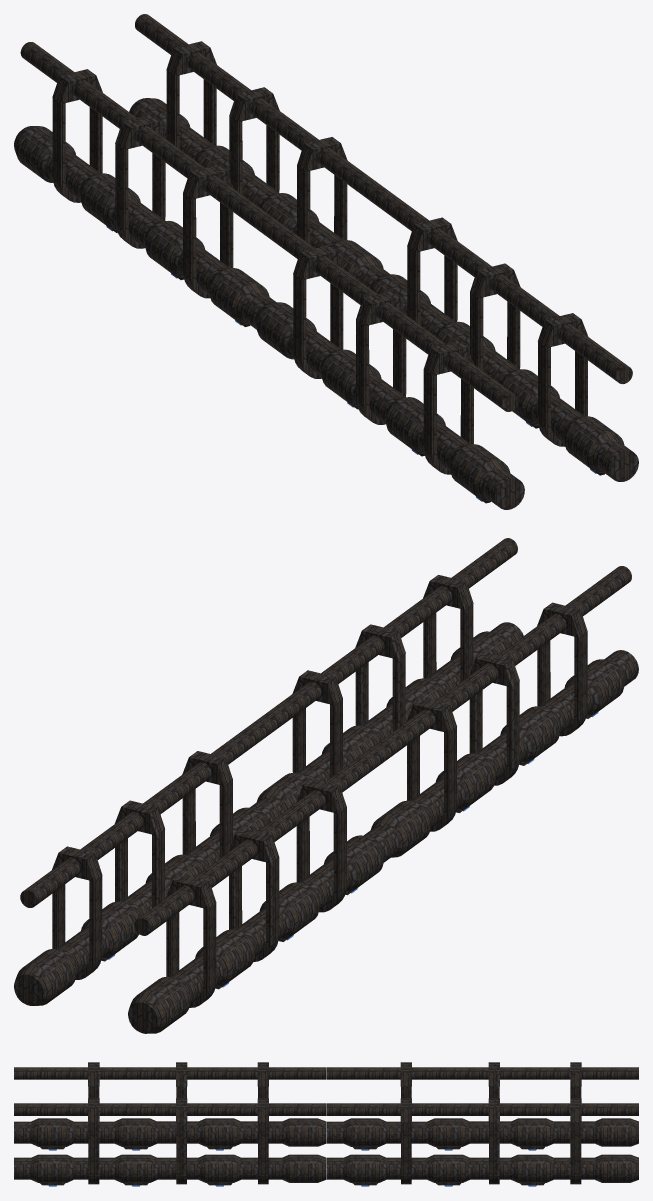
The model's file is GlowSection1.fbx.
3 views of the same model, one above another, from view 1: azimuth 30°, elevation 25°; view 2: azimuth 150°, elevation 25°; view 3: azimuth 270°, elevation 25° (orthographic). The views are drawn at different scales.
Parts seen in each view (by area): view 1: Object; view 2: Object; view 3: Object.
Part boxes in pixels (x1,y1,x2,y2): Object: (14, 14, 638, 509); Object: (14, 538, 638, 1033); Object: (14, 1062, 638, 1186).
Bounding box in the file's own units: 3294 × 2588 × 17541.
